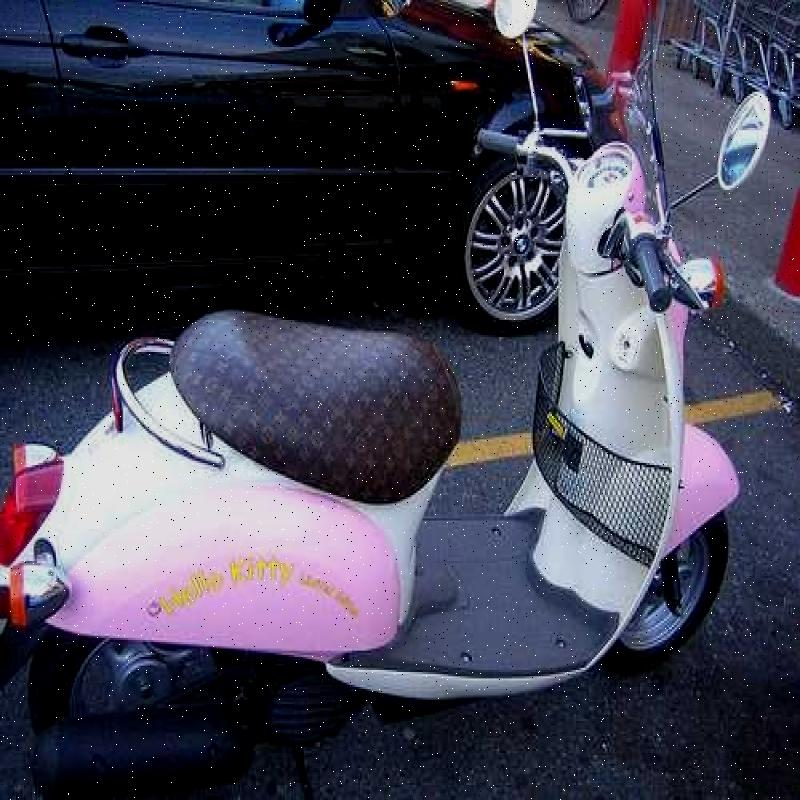bike: (38, 77, 732, 760)
